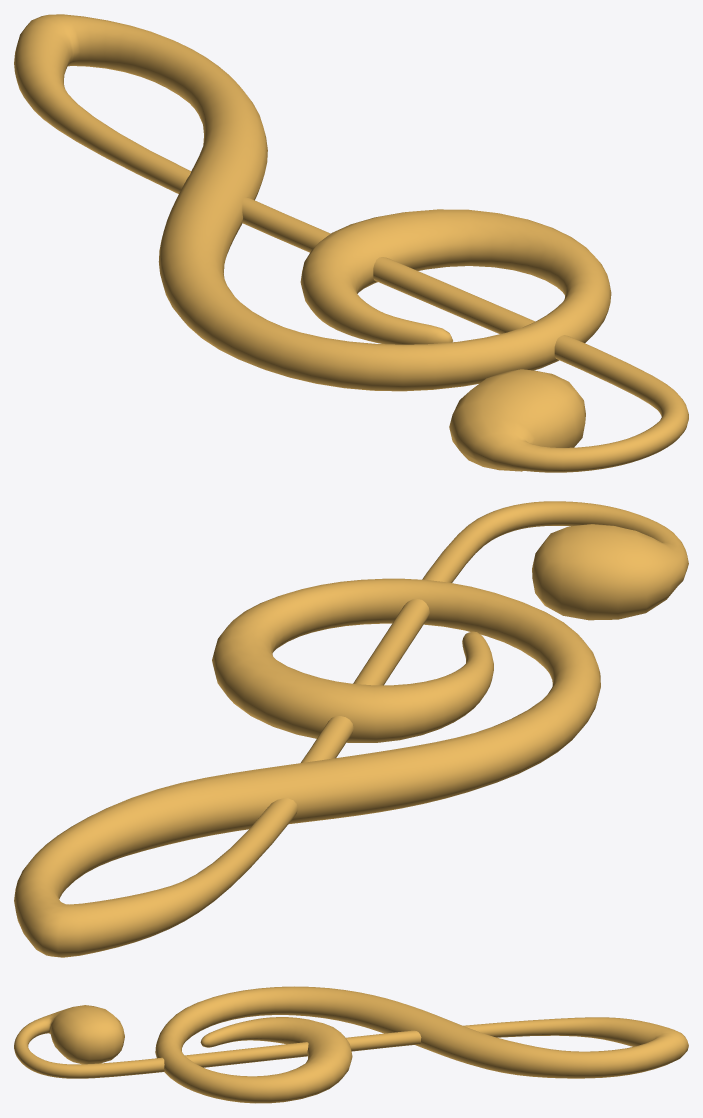
The model's file is note2.fbx.
3 renders of one model, top to bottom at view 1: azimuth 30°, elevation 25°; view 2: azimuth 150°, elevation 25°; view 3: azimuth 270°, elevation 25°, orthographic. The views are drawn at different scales.
Parts seen in each view (by area): view 1: Line002; view 2: Line002; view 3: Line002.
Boxes of the visible parts, x1,y1,x2,y2 form: Line002: (14,14,688,472); Line002: (14,501,688,957); Line002: (14,986,688,1103).
Size of the model in its own units: 124 by 25.79 by 345.
